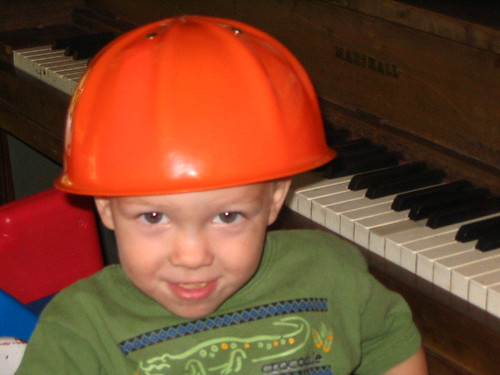person hardhat: (34, 10, 348, 375)
